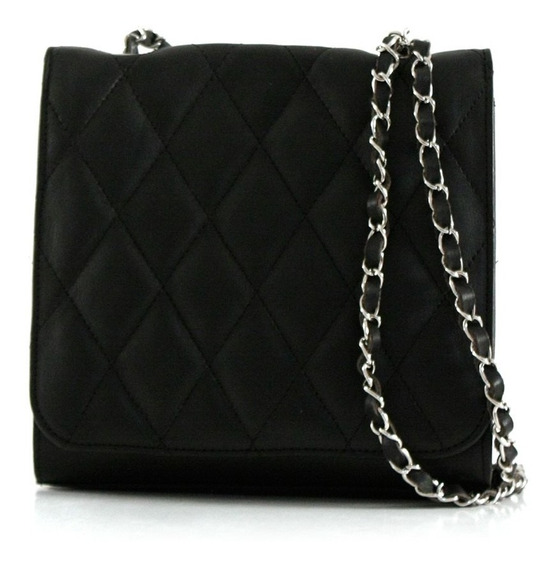cartera: (27, 27, 521, 508)
